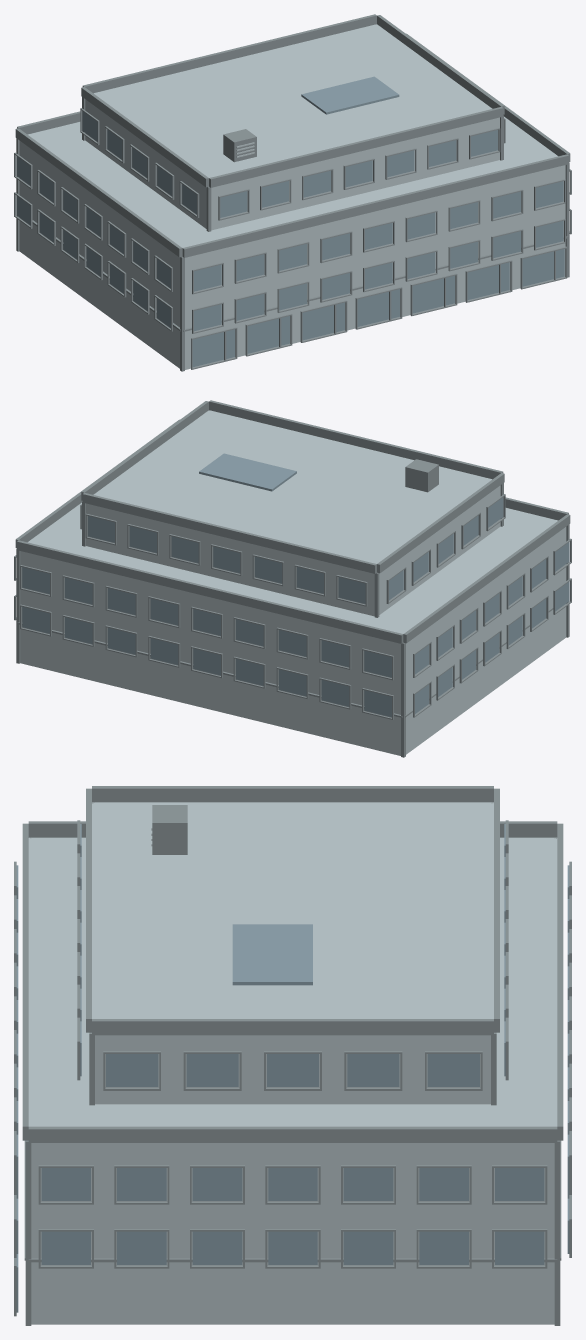
The model's file is lot_4x3_slab.glb.
3 renders of one model, top to bottom at view 1: azimuth 30°, elevation 25°; view 2: azimuth 150°, elevation 25°; view 3: azimuth 270°, elevation 25°, orthographic. The views are drawn at different scales.
Parts seen in each view (by area): view 1: lot_4x3_slab; view 2: lot_4x3_slab; view 3: lot_4x3_slab.
Part boxes in pixels (x1=…): lot_4x3_slab: x1=14, y1=14, x2=571, y2=371; lot_4x3_slab: x1=14, y1=400, x2=571, y2=757; lot_4x3_slab: x1=14, y1=786, x2=571, y2=1325.
Bounding box in the file's own units: 31.74 × 13.5 × 23.74.
